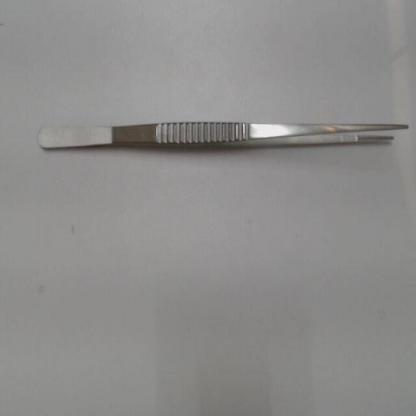DeBakey Dissector: (25, 93, 412, 190)
